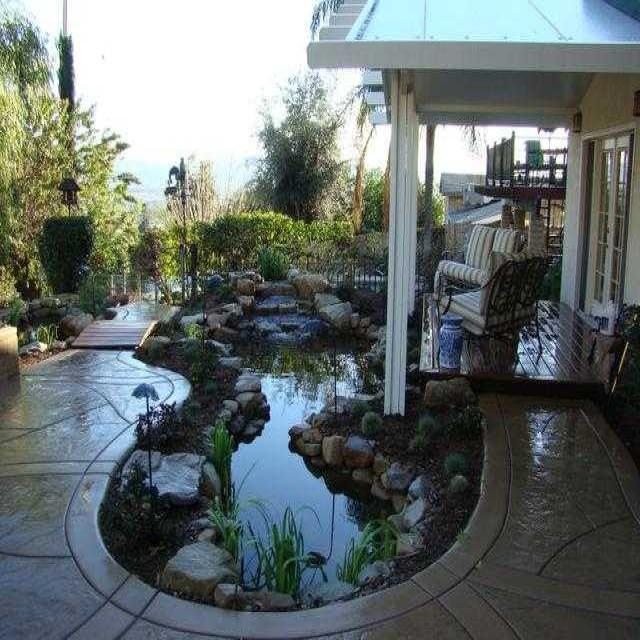Ponds: (115, 252, 469, 613)
